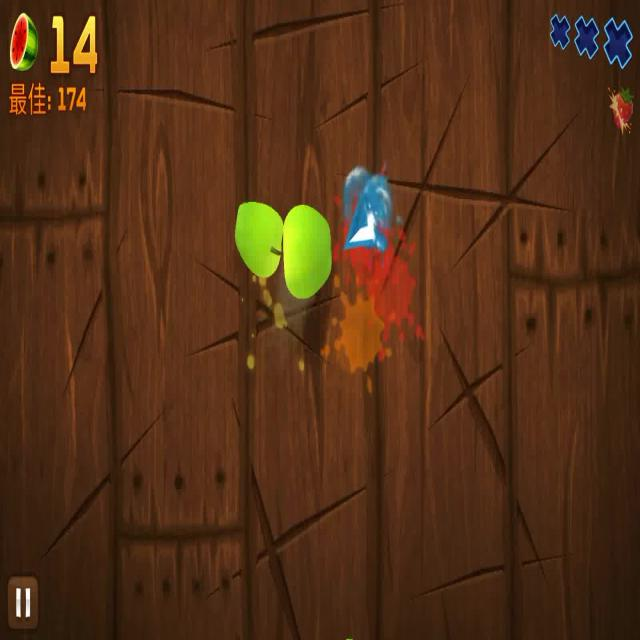fruit: (284, 203, 334, 299), (234, 191, 282, 277)
